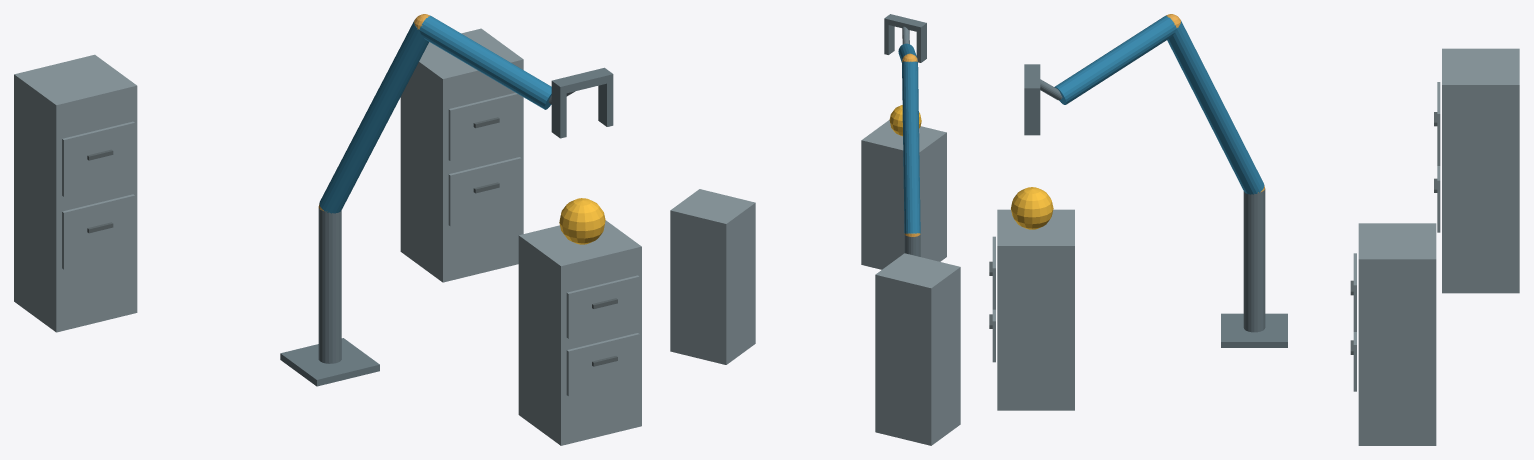
3 views of the same model, side by side, from view 1: azimuth 30°, elevation 25°; view 2: azimuth 150°, elevation 25°; view 3: azimuth 270°, elevation 25° (orthographic). The views are drawn at different scales.
Visible parts, largest first — view 1: cabinet_3 body, cabinet_2 body, cabinet_1 body, moving link 1, cabinet_3 drawer front.001, cabinet_3 drawer front, cabinet_2 drawer front, cabinet_2 drawer front.001, fixed post, moving link 2, cabinet_1 drawer front.001, cabinet_1 drawer front (+5 smaller); view 2: cabinet_3 body, cabinet_2 body, cabinet_1 body, moving link 1, gripper bridge, ball ball_1, fixed post, gripper finger -1, gripper finger 1; view 3: cabinet_3 body, cabinet_2 body, cabinet_1 body, moving link 1, fixed post, moving link 2, pedestal, ball ball_1, gripper finger 1, gripper bridge.
Boxes of the visible parts, x1=… form: cabinet_3 body: x1=14, y1=54, x2=137, y2=332; cabinet_2 body: x1=400, y1=28, x2=523, y2=282; cabinet_1 body: x1=518, y1=220, x2=641, y2=445; moving link 1: x1=319, y1=21, x2=428, y2=213; cabinet_3 drawer front.001: x1=62, y1=121, x2=134, y2=196; cabinet_3 drawer front: x1=62, y1=194, x2=134, y2=269; cabinet_2 drawer front: x1=448, y1=157, x2=521, y2=226; cabinet_2 drawer front.001: x1=448, y1=92, x2=521, y2=161; fixed post: x1=318, y1=208, x2=341, y2=363; moving link 2: x1=419, y1=15, x2=551, y2=109; cabinet_1 drawer front.001: x1=566, y1=275, x2=639, y2=338; cabinet_1 drawer front: x1=566, y1=333, x2=639, y2=396; cabinet_3 body: x1=875, y1=253, x2=960, y2=445; cabinet_2 body: x1=670, y1=189, x2=755, y2=364; cabinet_1 body: x1=861, y1=120, x2=946, y2=269; moving link 1: x1=902, y1=61, x2=920, y2=233; gripper bridge: x1=884, y1=14, x2=926, y2=32; ball ball_1: x1=889, y1=105, x2=921, y2=136; fixed post: x1=904, y1=234, x2=920, y2=256; gripper finger -1: x1=916, y1=29, x2=926, y2=62; gripper finger 1: x1=884, y1=24, x2=894, y2=54; cabinet_3 body: x1=1442, y1=48, x2=1519, y2=293; cabinet_2 body: x1=1358, y1=223, x2=1436, y2=445; cabinet_1 body: x1=997, y1=209, x2=1074, y2=410; moving link 1: x1=1167, y1=21, x2=1264, y2=194; fixed post: x1=1243, y1=189, x2=1265, y2=332; moving link 2: x1=1054, y1=15, x2=1176, y2=104; pedestal: x1=1221, y1=313, x2=1287, y2=347; ball ball_1: x1=1011, y1=187, x2=1053, y2=229; gripper finger 1: x1=1024, y1=95, x2=1040, y2=135; gripper bridge: x1=1024, y1=64, x2=1040, y2=95.
Size of the model in its own units: 1.67 by 1.41 by 1.98.
